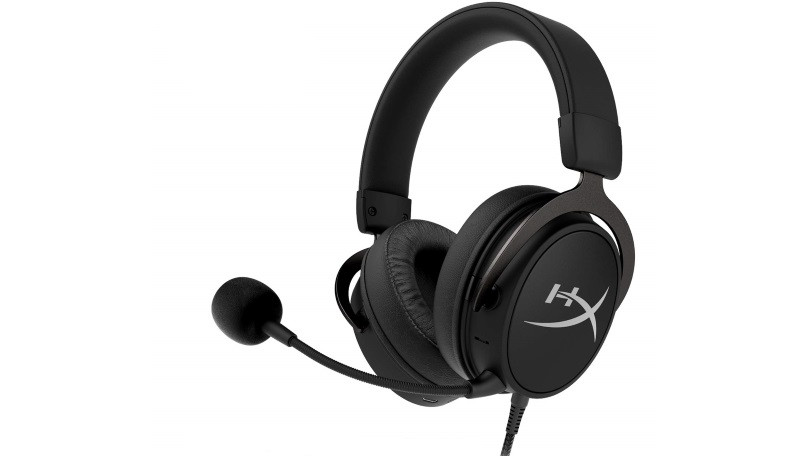Headphone: (326, 3, 642, 456)
